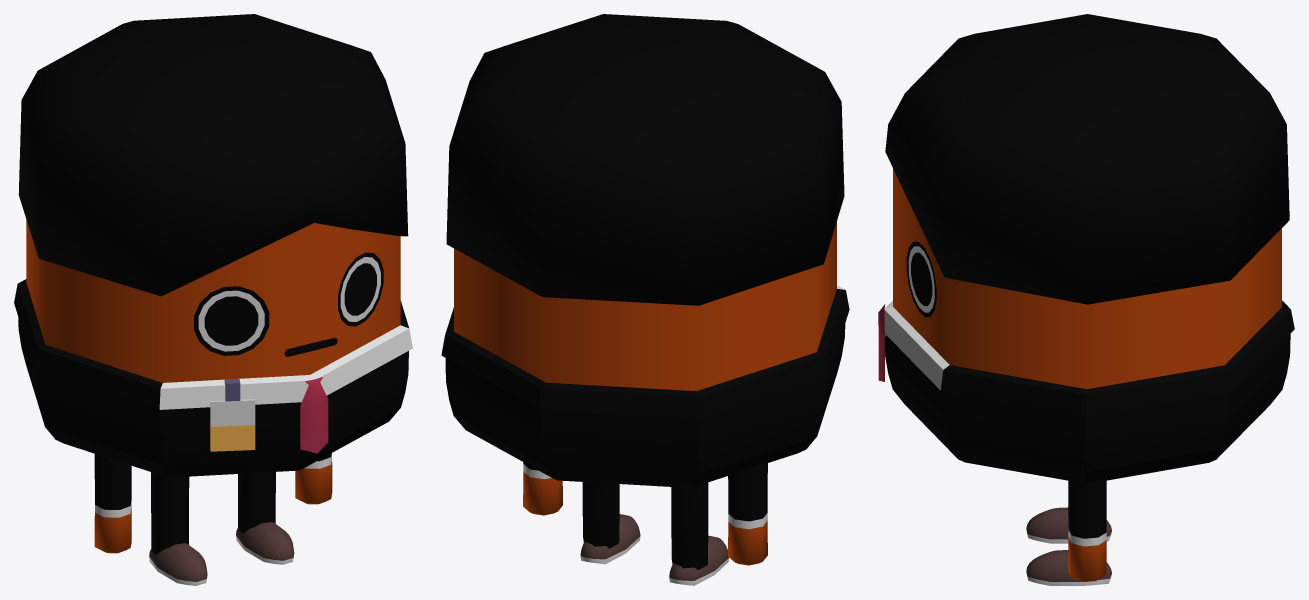
Rendered from Intern.fbx.
The picture shows the model from 3 angles, left to right: view 1: azimuth 30°, elevation 25°; view 2: azimuth 150°, elevation 25°; view 3: azimuth 270°, elevation 25°; orthographic projection. The views are drawn at different scales.
Parts seen in each view (by area): view 1: Intern; view 2: Intern; view 3: Intern.
Boxes of the visible parts, x1,y1,x2,y2 form: Intern: (14,14,412,585); Intern: (441,14,849,585); Intern: (878,14,1294,585).
Size of the model in its own units: 188 by 251 by 189.
